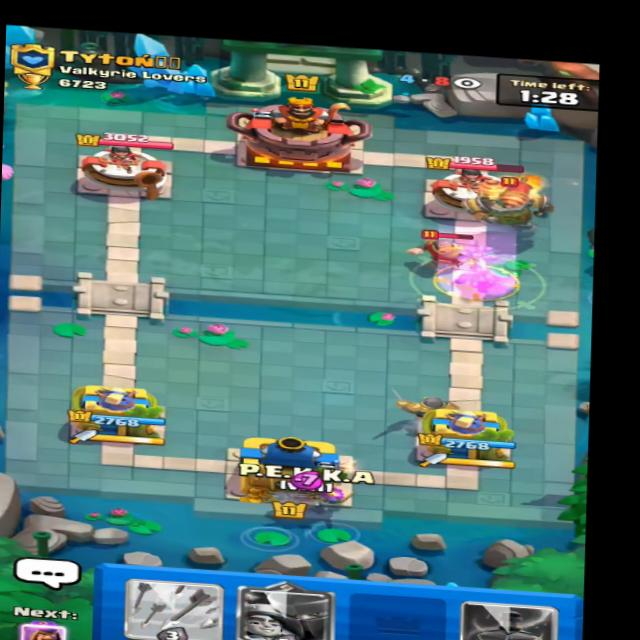goblin-machine: (464, 166, 558, 236)
knight: (407, 221, 493, 271)
